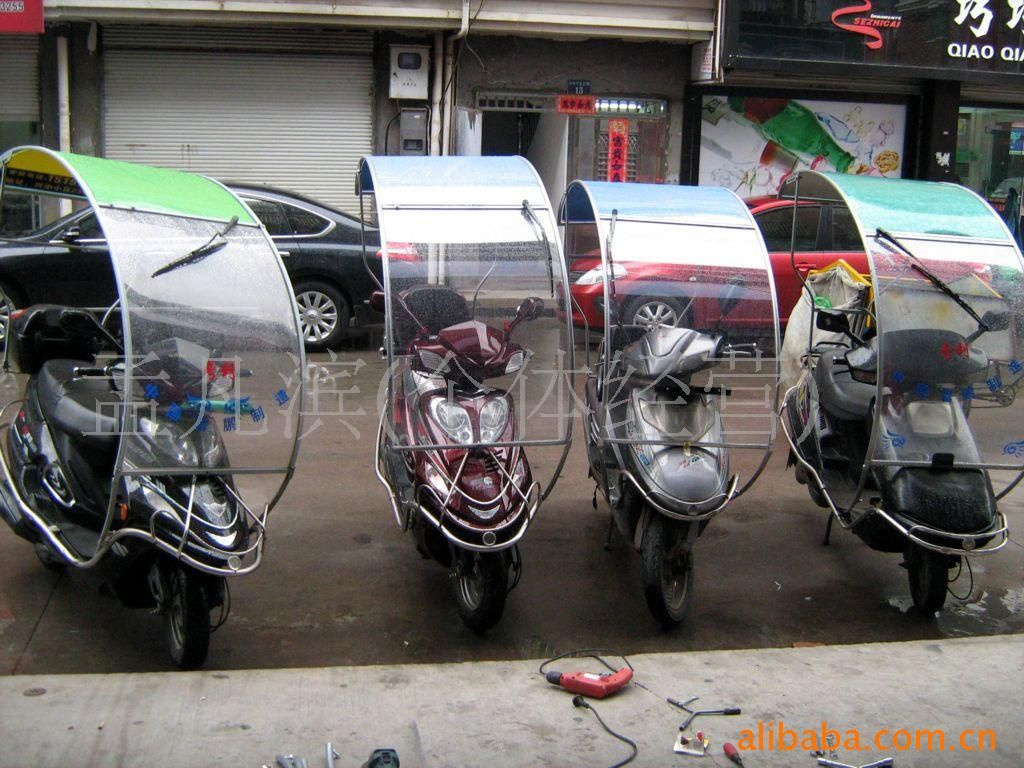non-vehicle: (8, 306, 269, 669), (803, 300, 1009, 614), (571, 320, 751, 634), (373, 328, 557, 630)
